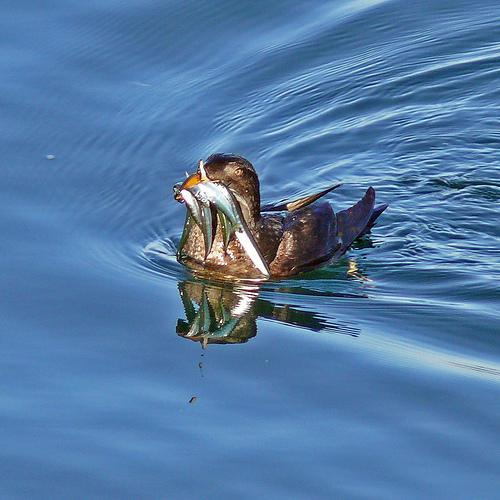008.Rhinoceros_Auklet: (172, 151, 390, 279)
